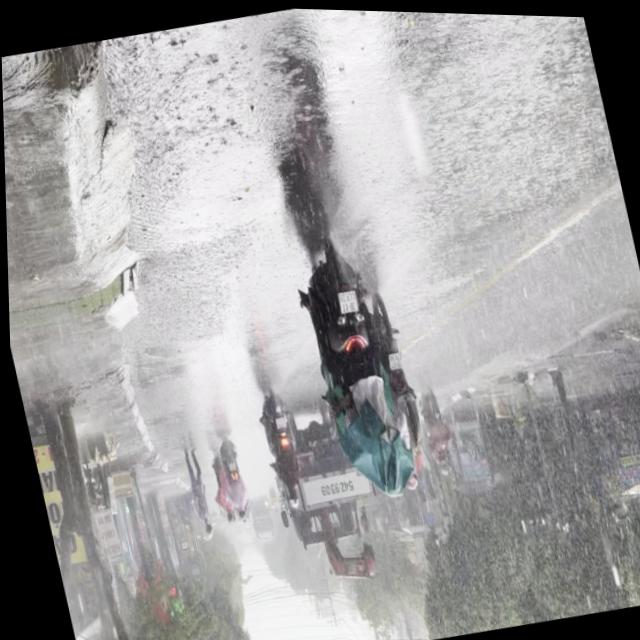licenseplate: (281, 218, 433, 542)
nohelmet: (335, 287, 357, 313)
